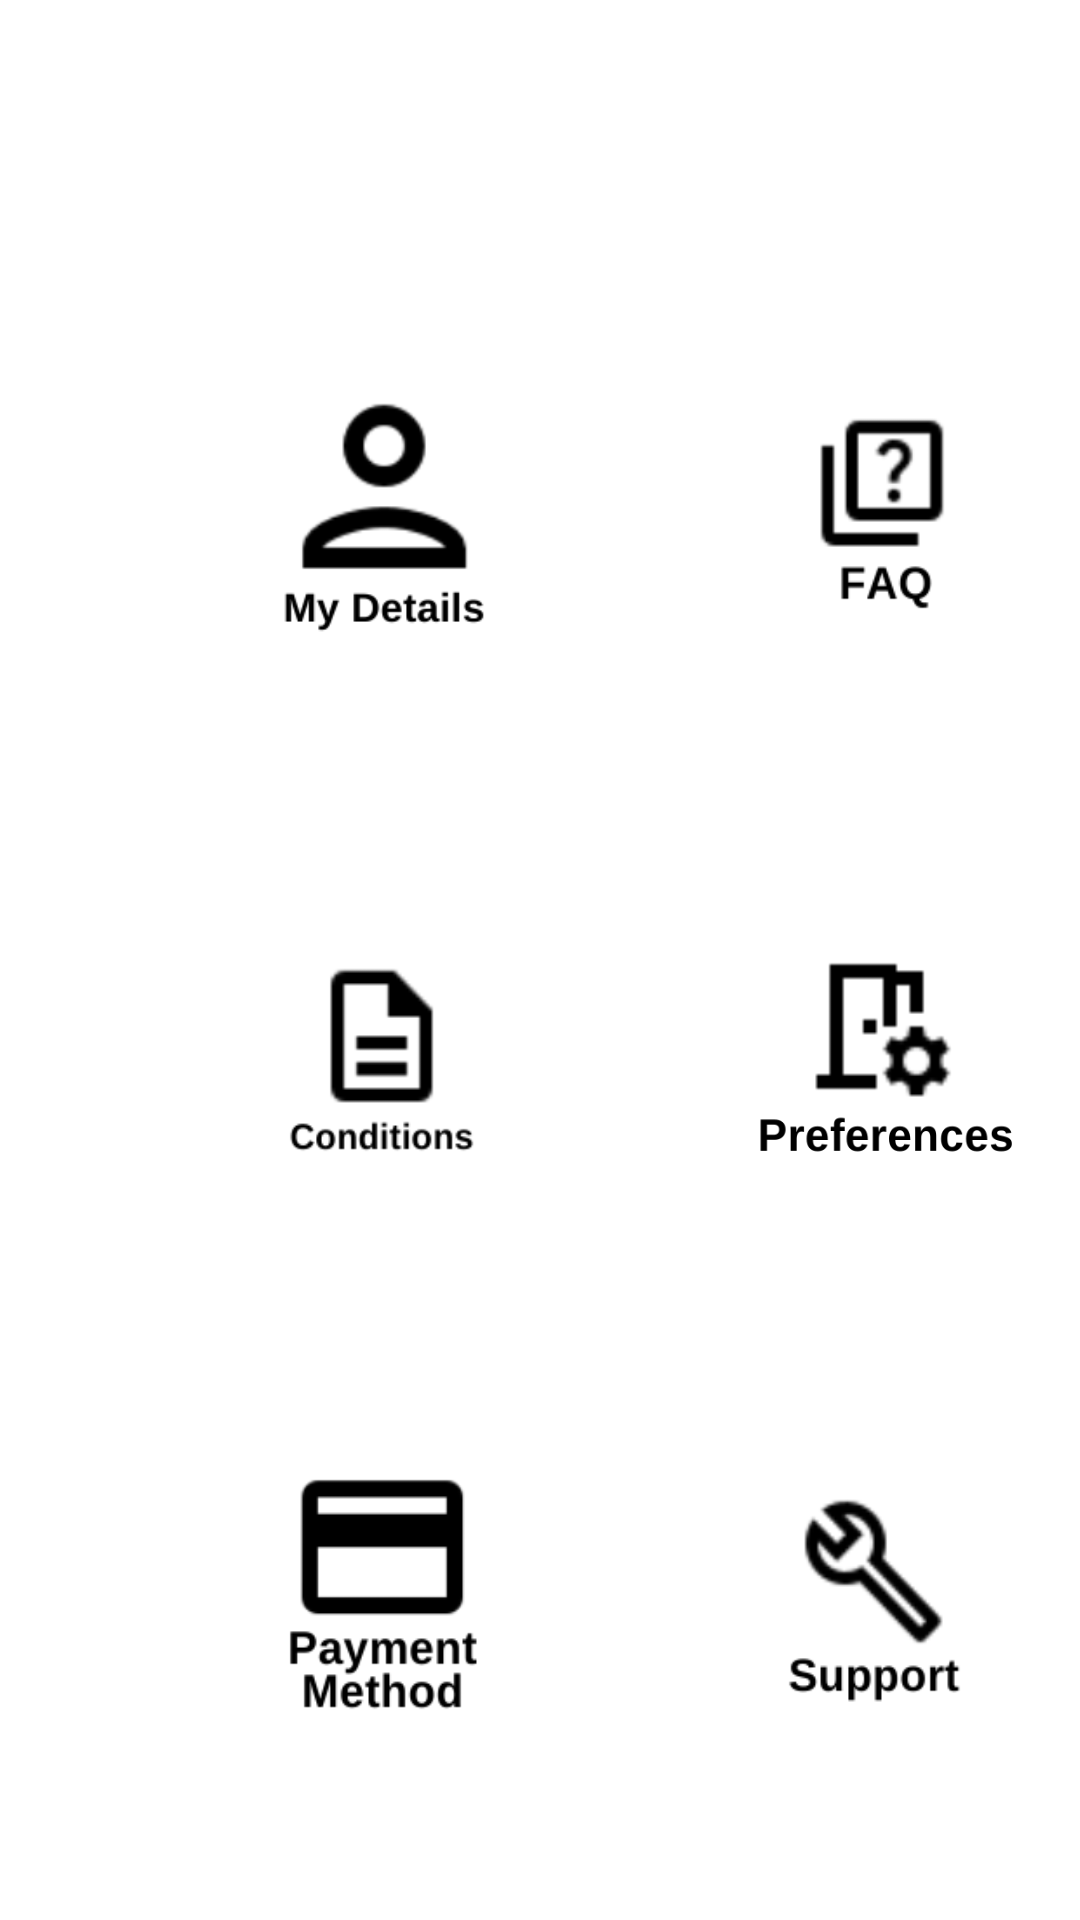

Icon click points for this 1080w x 1920h phone screenshot, format (x,y):
account: (384,517)
